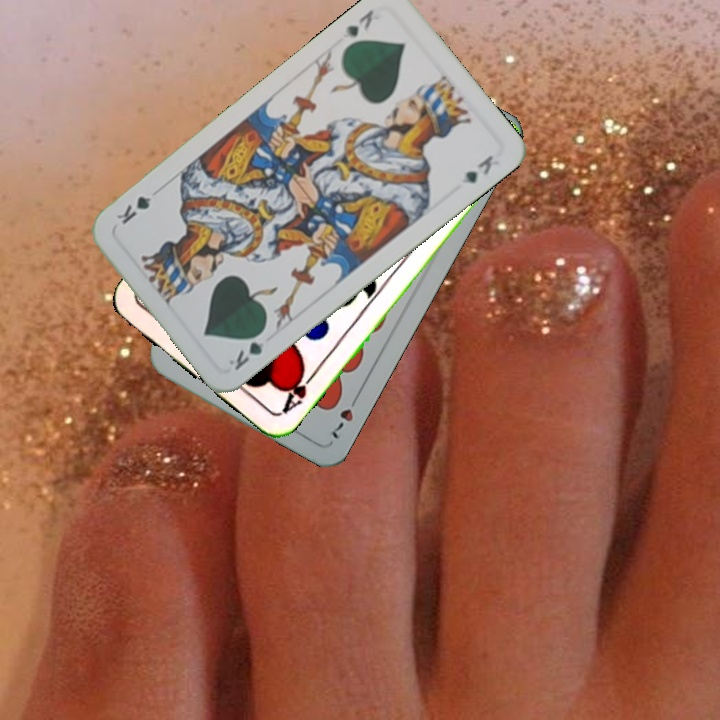GK: (224, 325, 270, 374), (338, 5, 377, 41)
H7: (327, 389, 362, 442)
HA: (276, 362, 319, 417)
